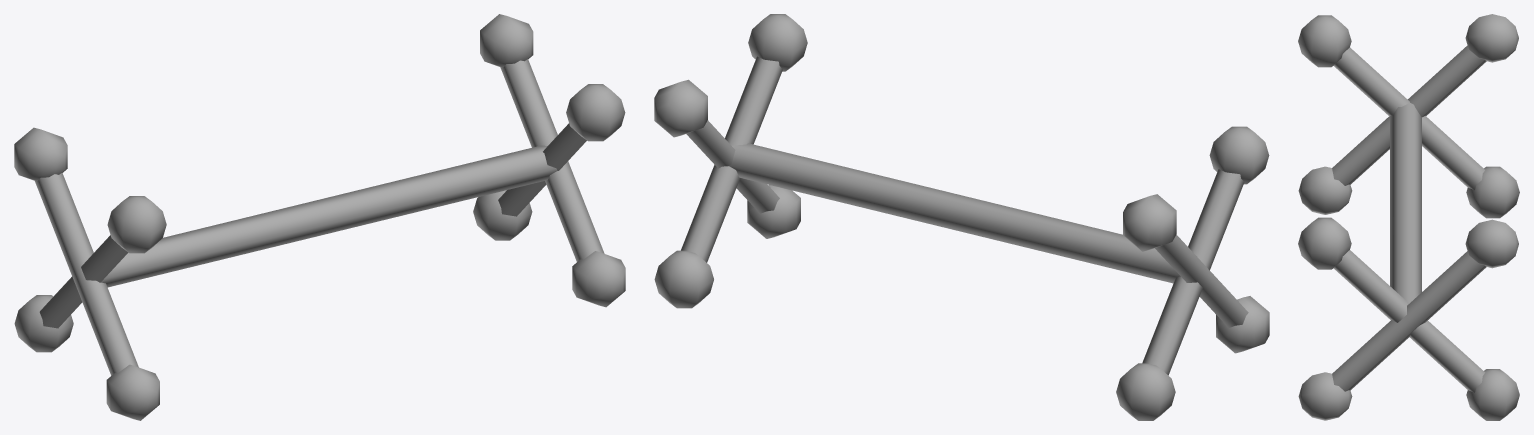
Rendered from ButterKnifeHolder_01.fbx.
3 views of the same model, side by side, from view 1: azimuth 30°, elevation 25°; view 2: azimuth 150°, elevation 25°; view 3: azimuth 270°, elevation 25° (orthographic). The views are drawn at different scales.
Parts seen in each view (by area): view 1: ButterKnifeHolder_01; view 2: ButterKnifeHolder_01; view 3: ButterKnifeHolder_01.
Boxes of the visible parts, x1,y1,x2,y2 form: ButterKnifeHolder_01: [14, 14, 625, 420]; ButterKnifeHolder_01: [654, 14, 1269, 420]; ButterKnifeHolder_01: [1298, 14, 1519, 420].
Size of the model in its own units: 0.1162 by 0.0484 by 0.0484.
